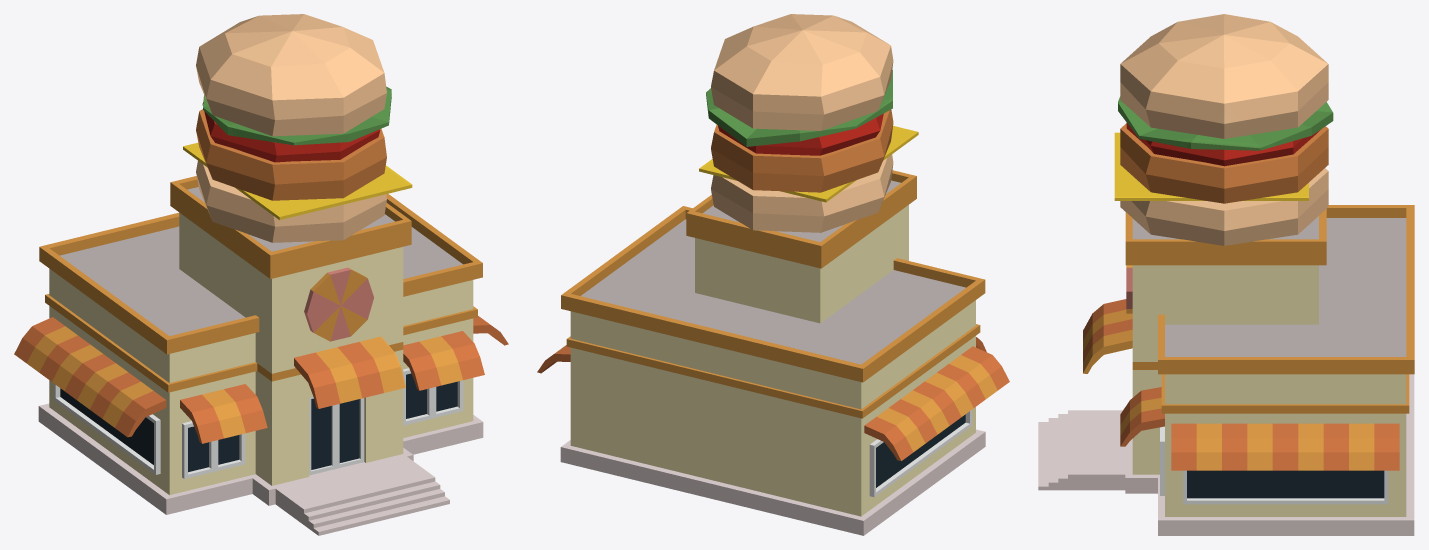
Rendered from HamburgerShop.fbx.
3 renders of one model, left to right at view 1: azimuth 30°, elevation 25°; view 2: azimuth 150°, elevation 25°; view 3: azimuth 270°, elevation 25°, orthographic. The views are drawn at different scales.
Parts seen in each view (by area): view 1: HamburgerShop; view 2: HamburgerShop; view 3: HamburgerShop.
Part boxes in pixels (x1=…): HamburgerShop: x1=14, y1=14, x2=508, y2=535; HamburgerShop: x1=537, y1=14, x2=1009, y2=535; HamburgerShop: x1=1038, y1=14, x2=1414, y2=535.
Size of the model in its own units: 34.66 by 29.46 by 36.58.
